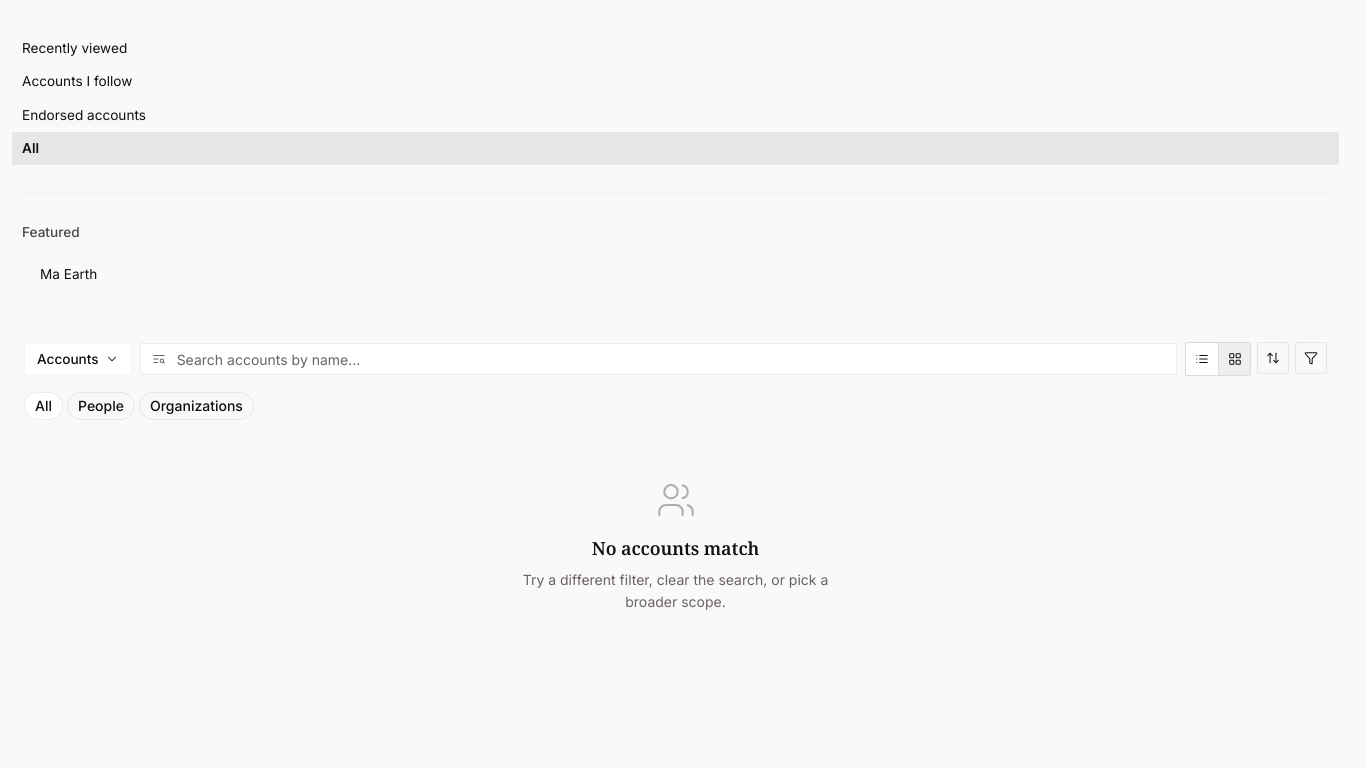
Explore Sort dropdown uses the canonical Popover › closes on Escape
Click the button named "Sort" at {"x": 1273, "y": 358}, box [1257,342,1289,374]
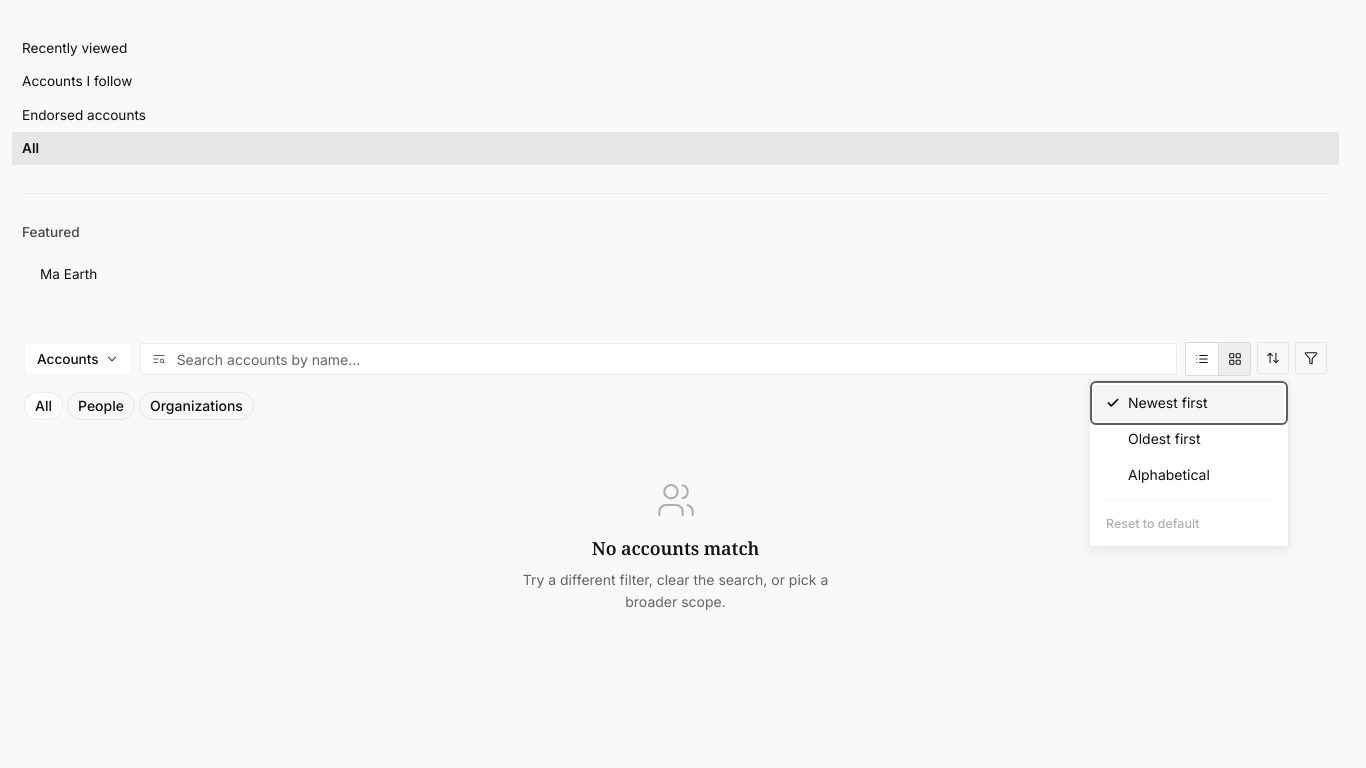
Now the menu is shown, box [1089,380,1289,547]
Press Escape
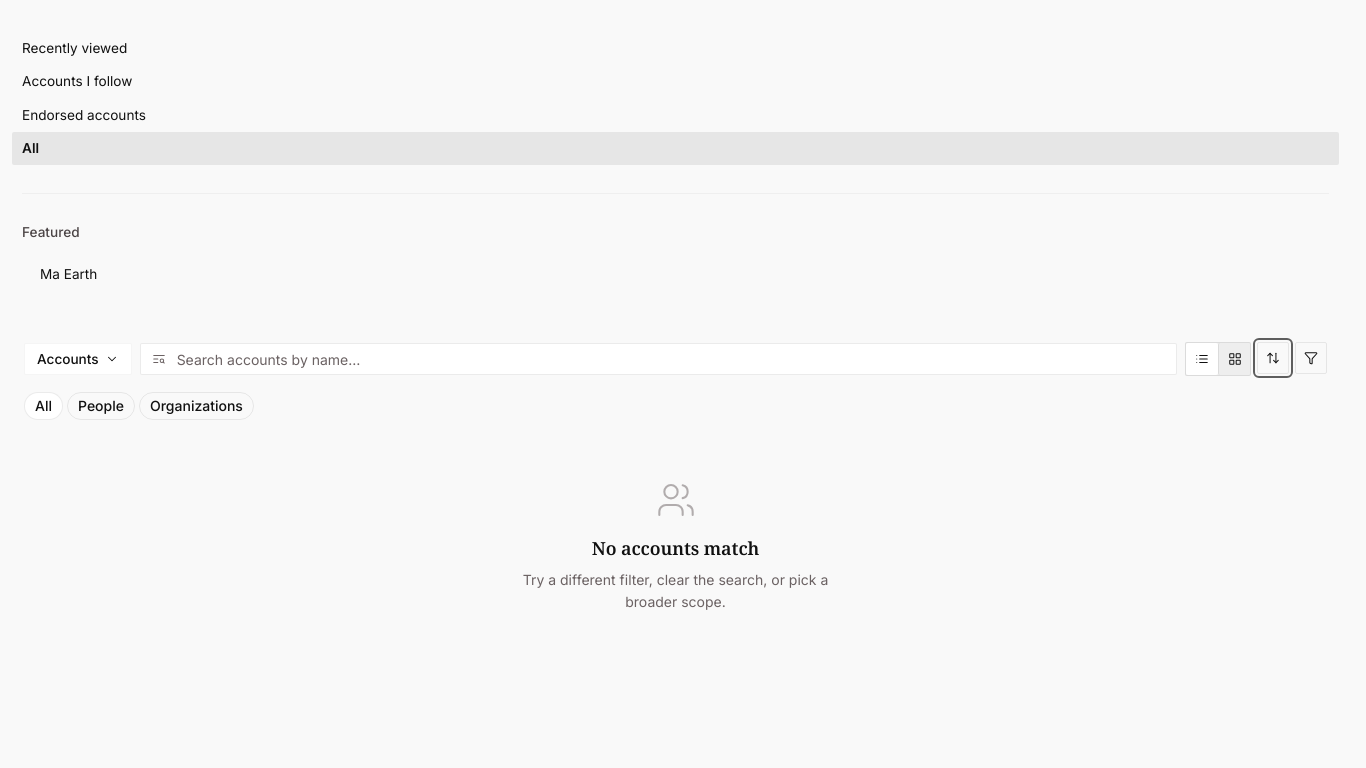
Now the menu is gone
